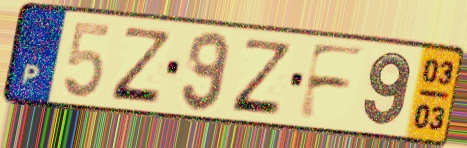5: (60, 19, 114, 100)
9: (180, 28, 233, 115), (359, 49, 414, 130)
F: (295, 40, 370, 123)
Z: (108, 24, 175, 106), (228, 36, 295, 118)
